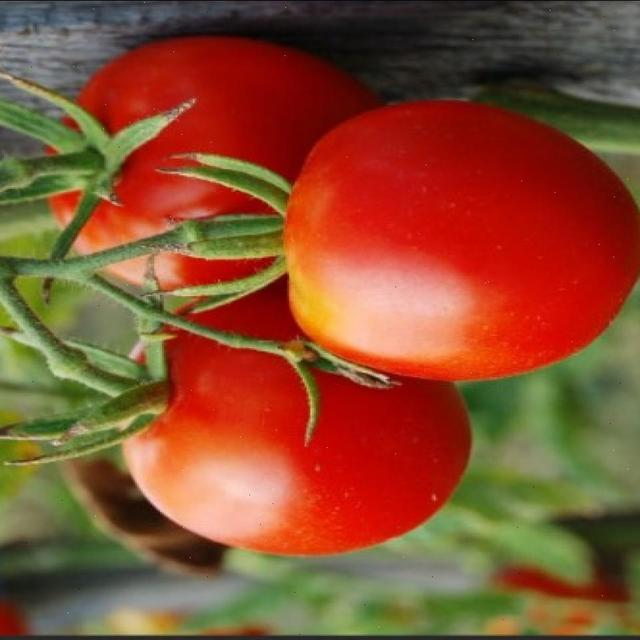Healthy Fruit: (134, 116, 308, 292)
